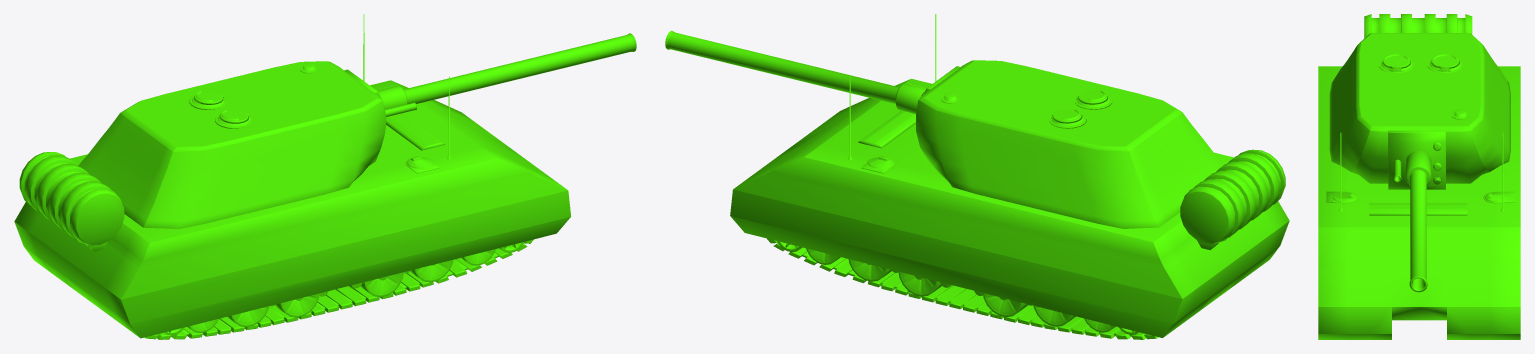
Rendered from mouse_1.fbx.
3 views of the same model, side by side, from view 1: azimuth 30°, elevation 25°; view 2: azimuth 150°, elevation 25°; view 3: azimuth 270°, elevation 25° (orthographic). The views are drawn at different scales.
Parts seen in each view (by area): view 1: Object022; view 2: Object022; view 3: Object022.
Part boxes in pixels (left/top/right/bottom): Object022: left=14, top=14, right=636, bottom=339; Object022: left=665, top=14, right=1289, bottom=339; Object022: left=1318, top=14, right=1520, bottom=339.
Size of the model in its own units: 20.54 by 6.7 by 6.47.
